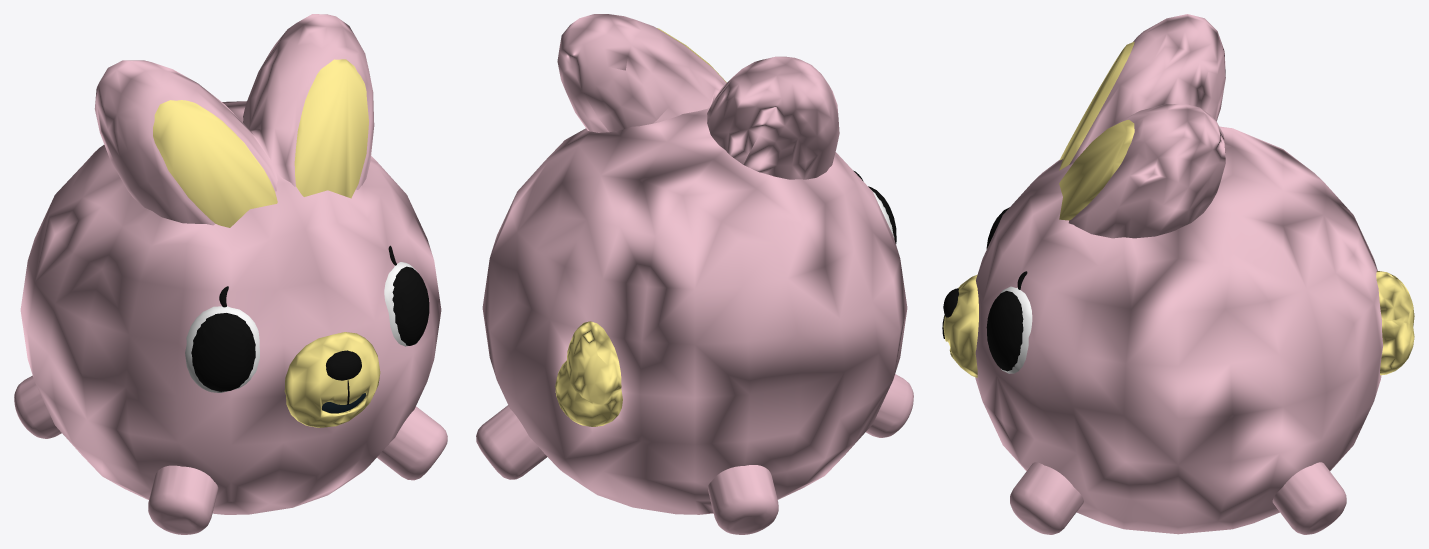
File: ToyModel.fbx
3 views of the same model, side by side, from view 1: azimuth 30°, elevation 25°; view 2: azimuth 150°, elevation 25°; view 3: azimuth 270°, elevation 25° (orthographic).
Visible parts, largest first — view 1: Union3.006; view 2: Union3.006; view 3: Union3.006.
Part boxes in pixels (box(x1,y1,x2,y2)): Union3.006: box(14, 14, 447, 534); Union3.006: box(476, 14, 913, 534); Union3.006: box(942, 14, 1414, 534).
Size of the model in its own units: 605 by 667 by 681.
